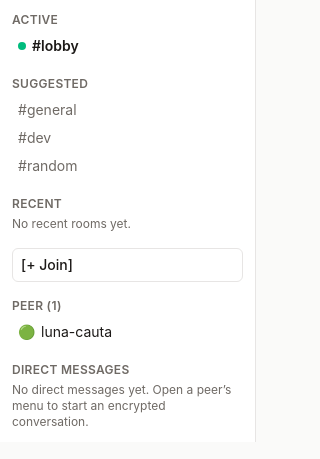
PeerList local mute (issue #95) › Mute stays disabled until the peer announces a fingerprint (issue #95)
Click the button "🟢 luna-cauta" at (128, 332), box [12,318,243,346]
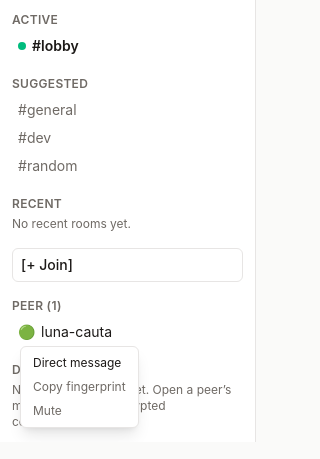
Check: the menu item "Mute" is disabled, box [25,399,134,423]
Check: the menu item "Copy fingerprint" is disabled, box [25,375,134,399]
